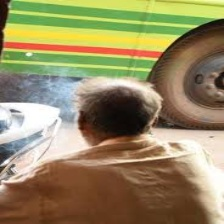smoke: (17, 73, 73, 112)
